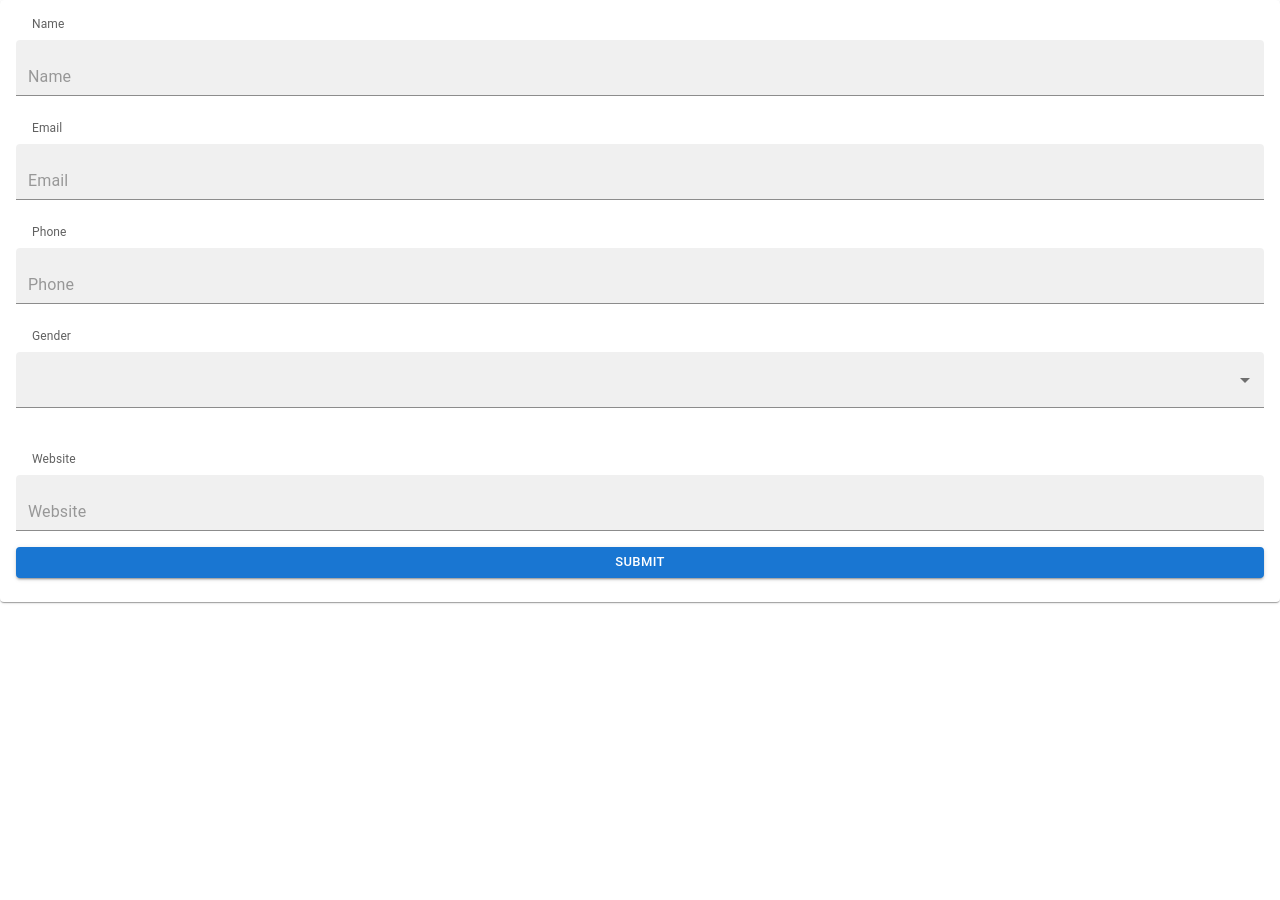
Scenario: SampleForm › should display validation error when gender is empty
Click the button "Submit".
click(640, 562)  # box [16, 547, 1264, 578]
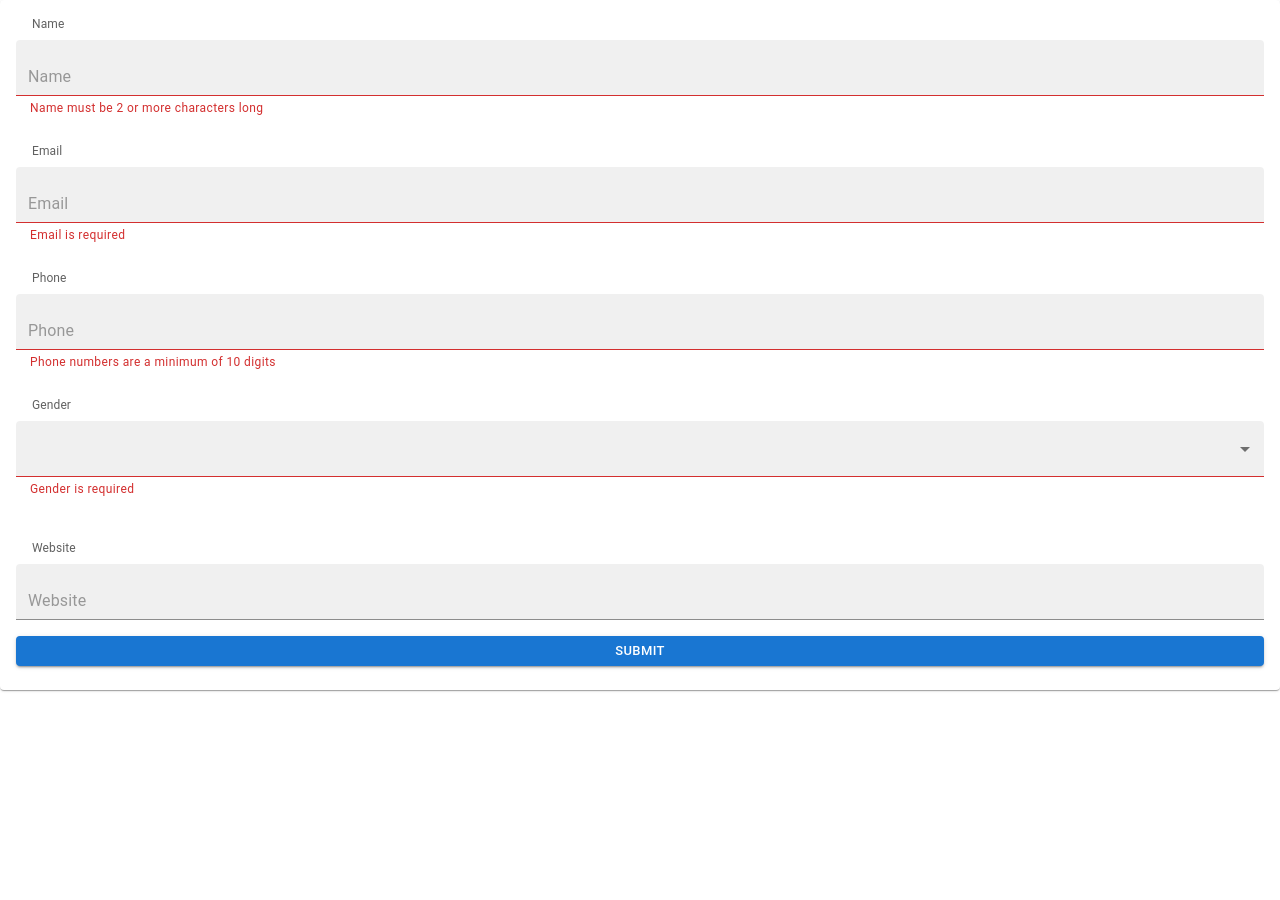
Check: the text "Gender is required" is shown, box [30, 482, 134, 496]
